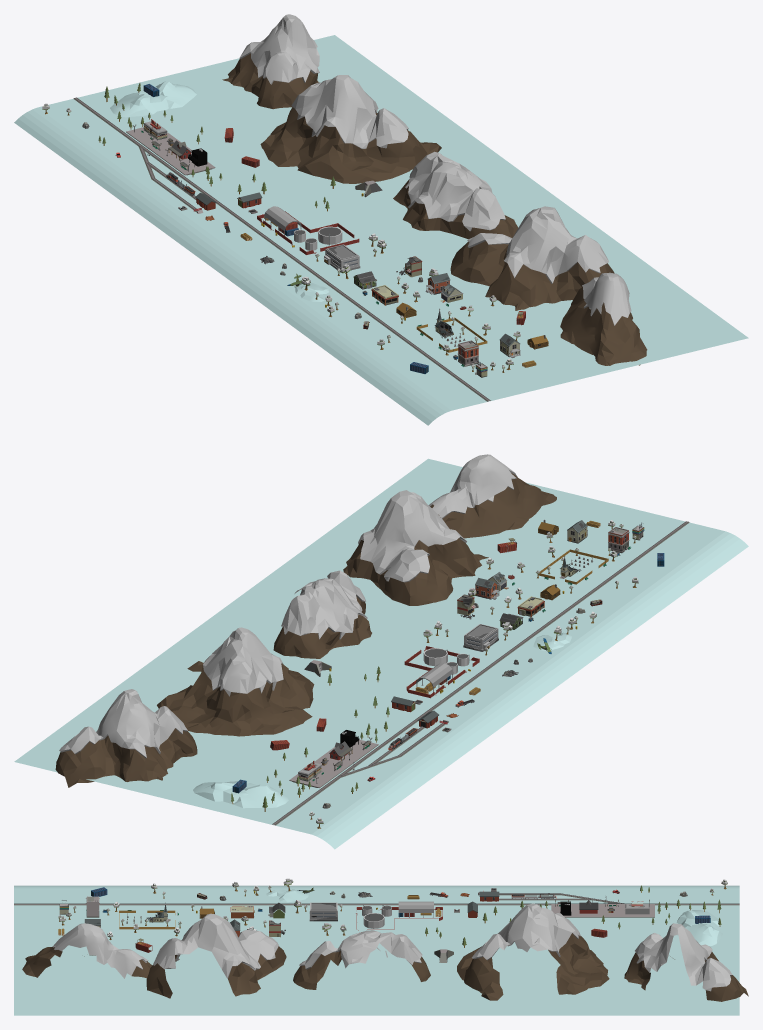
The model's file is _lvl_winter_bg_4.glb.
3 renders of one model, top to bottom at view 1: azimuth 30°, elevation 25°; view 2: azimuth 150°, elevation 25°; view 3: azimuth 270°, elevation 25°, orthographic. The views are drawn at different scales.
Visible parts, largest first — view 1: bg_ground_4, SM_Env_HillSnow_Pack_4, bg_ground_far_4, bg_near_plane_winter, SM_Env_Rails_5, SM_Env_Hills_Small_4, SM_Env_Station_Platform_02 (3), SA_Bld_HospitalOffice_Damaged_01; view 2: bg_ground_4, SM_Env_HillSnow_Pack_4, bg_ground_far_4, bg_near_plane_winter, SM_Env_Rails_5, SM_Env_Hills_Small_4, SM_Env_Station_Platform_02 (3), SA_Bld_HospitalOffice_Damaged_01; view 3: bg_ground_far_4, bg_ground_4, SM_Env_HillSnow_Pack_4, bg_near_plane_winter, SM_Env_Rails_5, SM_Env_Hills_Small_4, SM_Env_Station_Platform_02 (3), SA_Bld_HospitalOffice_Damaged_01, SM_Bld_Train_Cover_01 (1), SA_Bld_ShopOld_Damaged_01, SM_Bld_Silo_02 (5), SA_Bld_WarehouseOld_Damaged_01 (+2 smaller).
Boxes of the visible parts, x1,y1,x2,y2 form: bg_ground_4: (37,75,584,410); SM_Env_HillSnow_Pack_4: (222,14,647,365); bg_ground_far_4: (171,35,748,377); bg_near_plane_winter: (14,107,451,425); SM_Env_Rails_5: (73,97,490,401); SM_Env_Hills_Small_4: (110,81,329,301); SM_Env_Station_Platform_02 (3): (126,127,215,175); SA_Bld_HospitalOffice_Damaged_01: (324,244,360,272); bg_ground_4: (177,498,724,834); SM_Env_HillSnow_Pack_4: (55,454,556,787); bg_ground_far_4: (14,458,591,801); bg_near_plane_winter: (311,531,748,849); SM_Env_Rails_5: (272,521,689,825); SM_Env_Hills_Small_4: (193,632,571,808); SM_Env_Station_Platform_02 (3): (289,739,378,787); SA_Bld_HospitalOffice_Damaged_01: (463,624,498,651); bg_ground_far_4: (14,945,739,1015); bg_ground_4: (14,888,739,945); SM_Env_HillSnow_Pack_4: (22,903,748,1001); bg_near_plane_winter: (14,885,739,888); SM_Env_Rails_5: (14,893,739,905); SM_Env_Hills_Small_4: (266,889,722,945); SM_Env_Station_Platform_02 (3): (551,904,654,917); SA_Bld_HospitalOffice_Damaged_01: (309,902,337,921); SM_Bld_Train_Cover_01 (1): (398,901,433,917); SA_Bld_ShopOld_Damaged_01: (230,905,254,918); SM_Bld_Silo_02 (5): (363,913,384,928); SA_Bld_WarehouseOld_Damaged_01: (85,896,99,917).
Bounding box in the file's own units: 201 × 49.25 × 456.
1 material, 1 textured.
